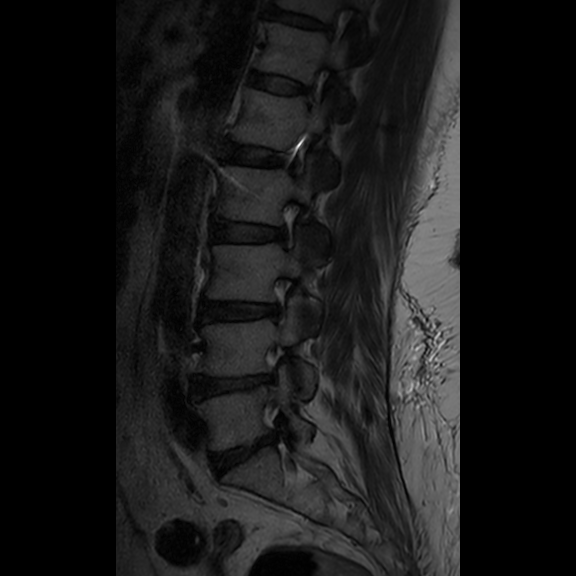LFS0: (262, 189, 309, 261)
LFS1: (253, 265, 301, 333)
